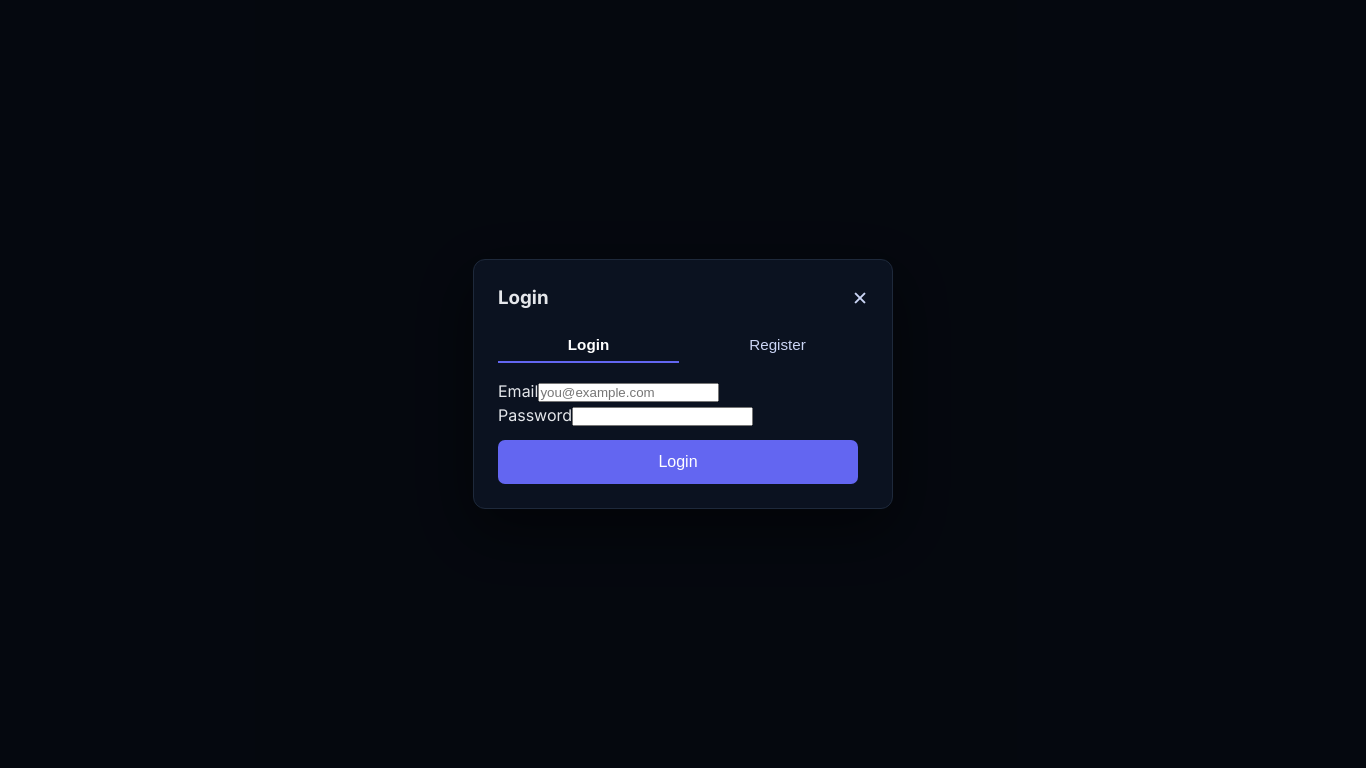
Test case: AuthModal › shows validation errors when login fields are empty
Click the button "Login" below "Password" at (678, 462), box [498, 440, 858, 484]
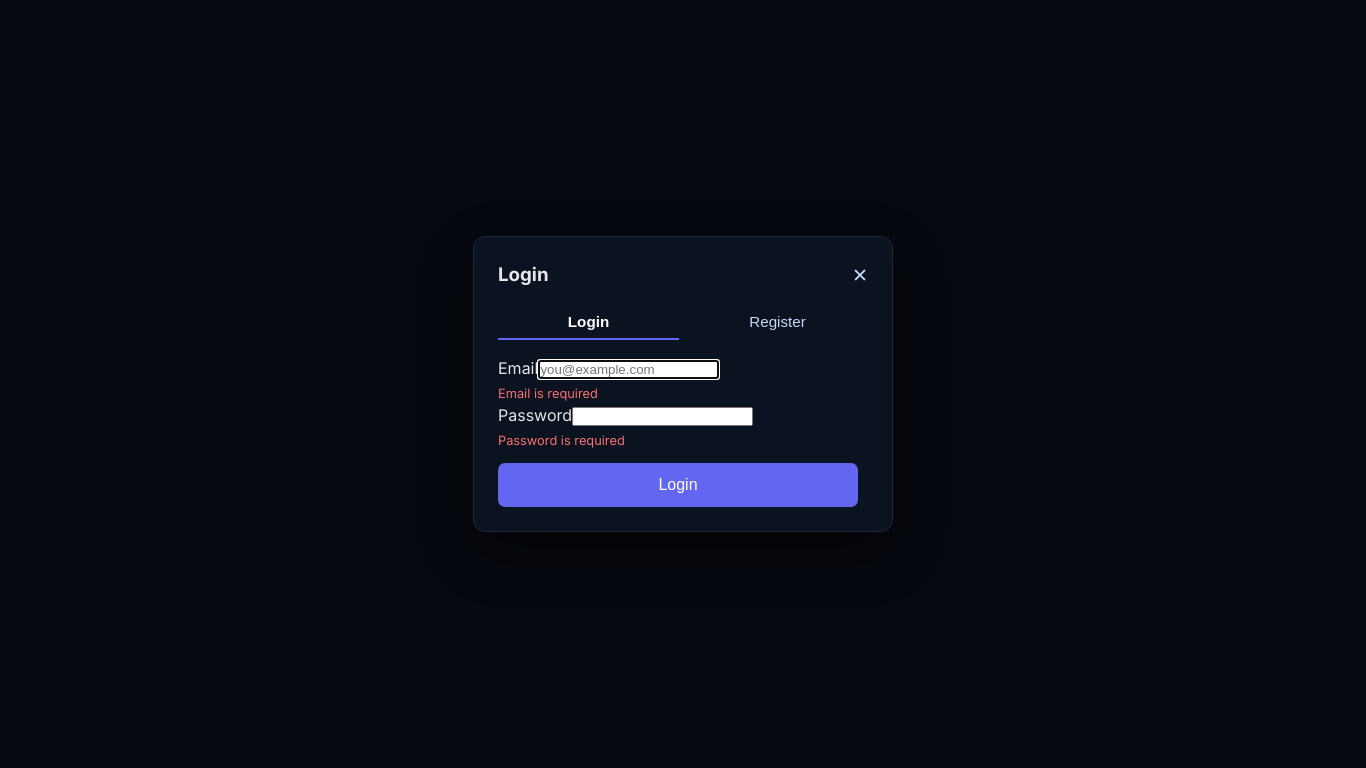
Expected: the text "Email is required" is shown, [498, 386, 598, 401]
